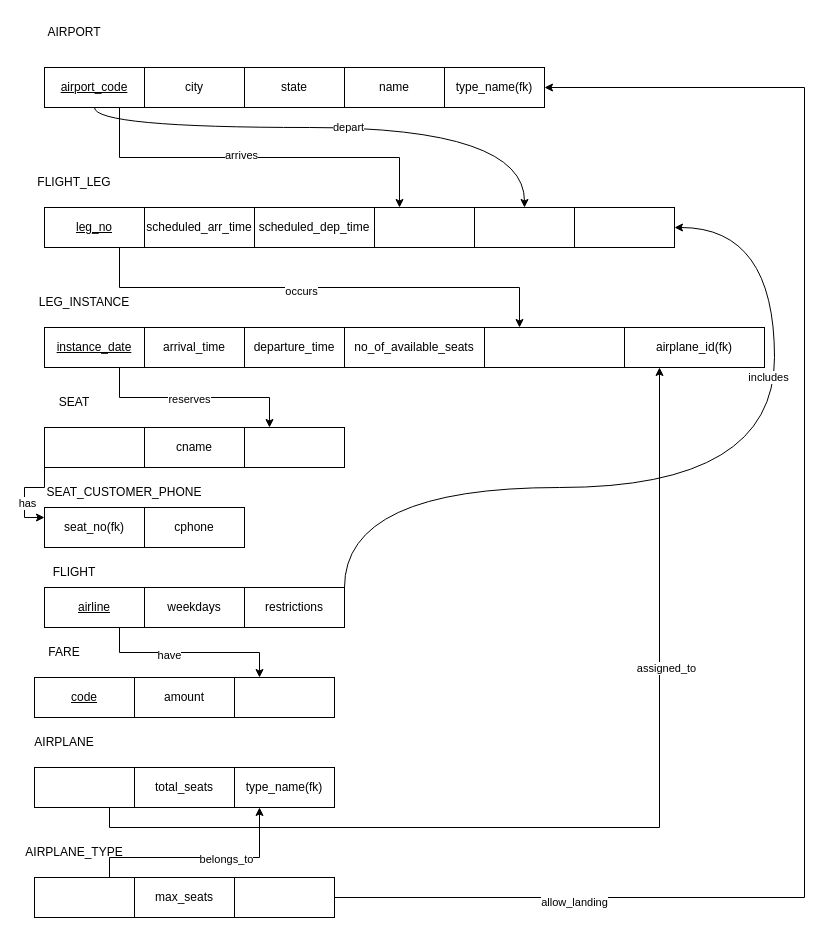
This 830x935 diagram has some shape labels left out. The box of each missing label's shape, as (x1, y1, x2, y2) in pixels:
airline(fk): (234, 676, 334, 718)
airlinefk): (574, 206, 674, 248)
airplane_id: (34, 766, 134, 808)
arrival_code(fk): (374, 206, 474, 248)
company: (234, 876, 334, 918)
depart_code(fk): (474, 206, 574, 248)
occurance_no(fk): (484, 326, 624, 368)
reserve_date(fk): (244, 426, 344, 468)
seat_no: (44, 426, 144, 468)
type_name: (34, 876, 134, 918)
